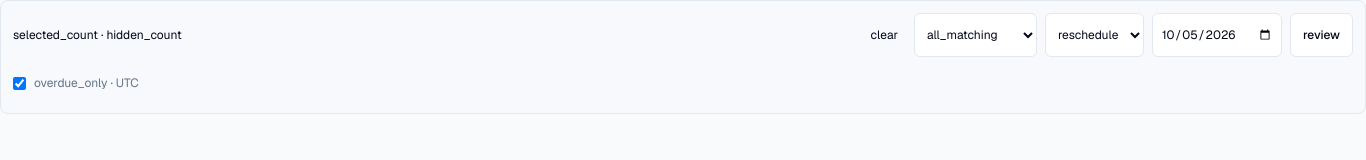
Test: manual bulk review › resolves all matching on the server with the current filter and shows server failures
The image size is (1366, 160).
Click the button "review" at [1322, 35], box [1290, 13, 1353, 57]
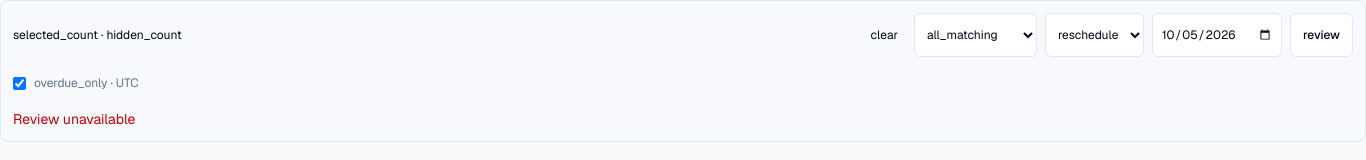
Expected: the message reads "Review unavailable", [13, 110, 136, 128]
